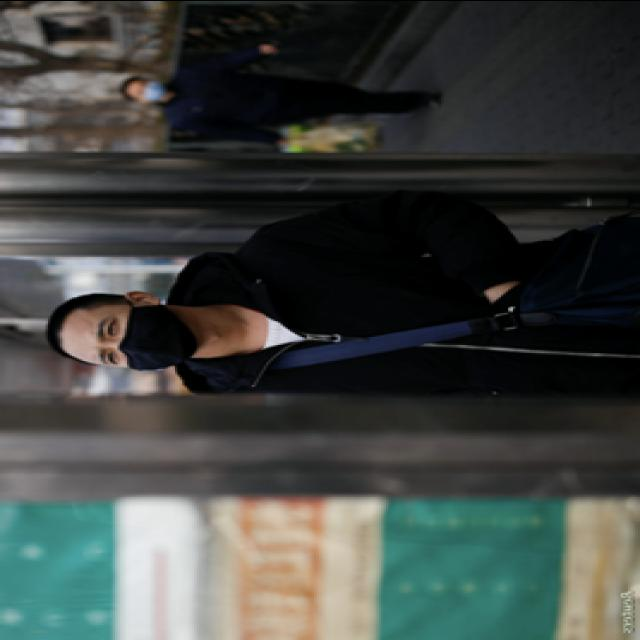mask: (86, 304, 196, 370), (132, 78, 168, 100)
